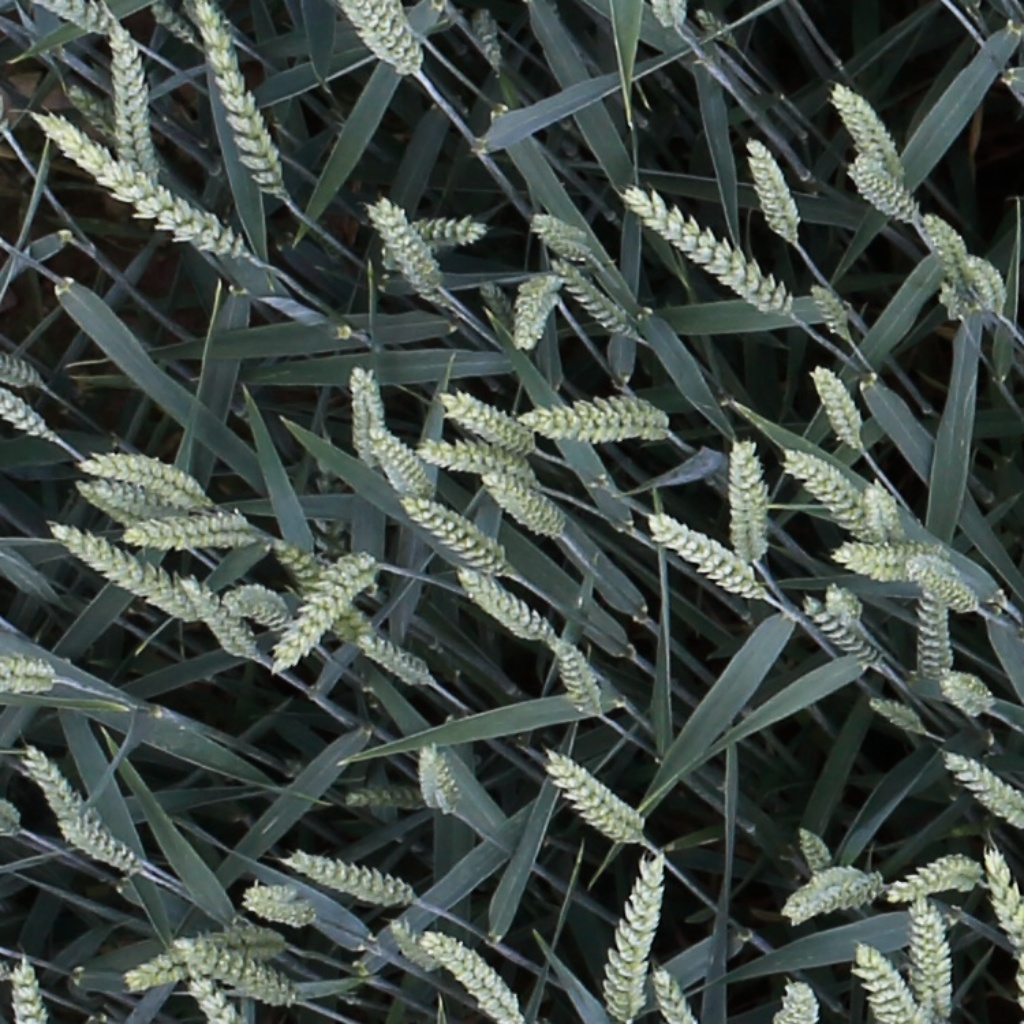ETHZ_1: (28, 112, 248, 262), (622, 184, 791, 322), (184, 0, 286, 205), (50, 525, 193, 619), (272, 554, 377, 674), (600, 851, 667, 1024), (534, 746, 643, 845), (647, 509, 758, 600), (105, 20, 160, 185), (427, 934, 527, 1024), (129, 931, 280, 985), (782, 446, 872, 536), (279, 851, 417, 909), (400, 498, 506, 572), (519, 395, 671, 446), (16, 742, 98, 835), (978, 846, 1024, 1010), (173, 942, 290, 1006), (548, 256, 637, 339), (742, 132, 801, 249), (176, 577, 255, 663), (456, 569, 550, 641), (365, 193, 436, 288), (829, 83, 898, 178), (782, 866, 884, 926), (378, 214, 491, 268), (798, 595, 877, 670), (827, 537, 952, 584), (944, 755, 1024, 828), (436, 389, 531, 450), (342, 1, 419, 76), (910, 898, 955, 1024), (79, 451, 207, 495), (479, 471, 561, 539), (850, 942, 916, 1024), (727, 440, 769, 568), (55, 815, 141, 877), (808, 361, 865, 453), (920, 206, 972, 304), (849, 155, 921, 225), (120, 512, 251, 550), (884, 852, 978, 902), (550, 636, 603, 724), (415, 443, 535, 481), (363, 427, 430, 495), (81, 481, 189, 522), (349, 634, 428, 688), (62, 80, 121, 151), (918, 573, 954, 686), (239, 882, 320, 931), (348, 361, 386, 460), (220, 583, 292, 633), (513, 270, 558, 349), (907, 563, 980, 611), (389, 918, 447, 978), (418, 741, 460, 822), (959, 249, 1010, 315), (340, 781, 439, 814), (804, 277, 854, 341), (0, 386, 55, 442), (182, 969, 236, 1024), (941, 670, 997, 723), (645, 961, 693, 1022), (791, 820, 835, 884), (472, 273, 518, 333), (864, 477, 902, 549), (768, 974, 821, 1024), (468, 2, 503, 76), (12, 960, 51, 1023), (42, 0, 114, 34), (144, 1, 196, 47), (0, 659, 59, 698), (690, 5, 738, 49), (866, 697, 922, 734), (536, 225, 592, 260), (527, 212, 588, 241), (823, 582, 862, 622), (0, 353, 42, 387)
